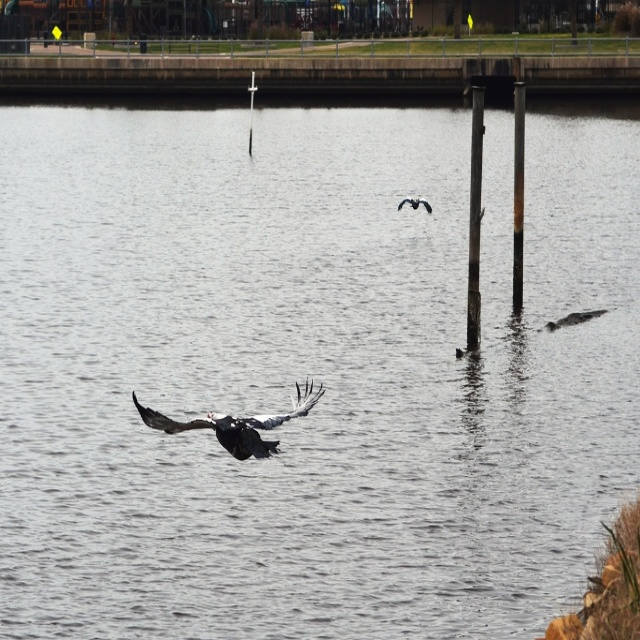Duck: (123, 369, 326, 472), (396, 196, 430, 211)
